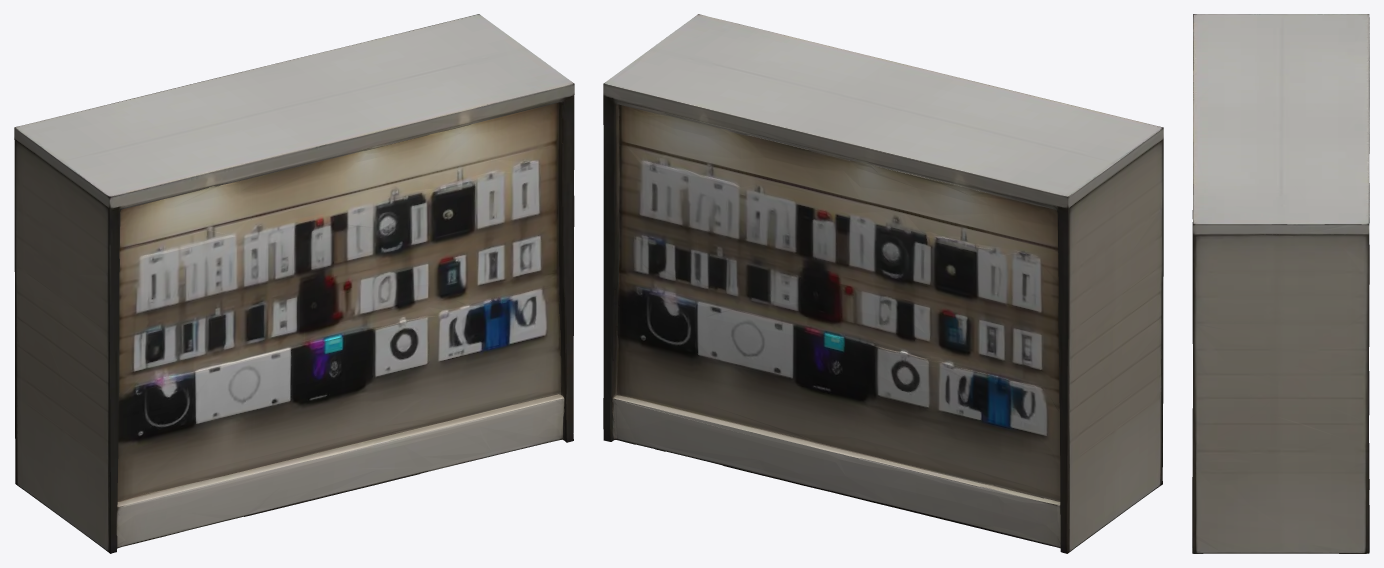
Rendered from bookshelf_corner_wood.glb.
3 renders of one model, left to right at view 1: azimuth 30°, elevation 25°; view 2: azimuth 150°, elevation 25°; view 3: azimuth 270°, elevation 25°, orthographic. The views are drawn at different scales.
Parts seen in each view (by area): view 1: geometry_0; view 2: geometry_0; view 3: geometry_0.
Boxes of the visible parts, x1,y1,x2,y2 form: geometry_0: [14, 14, 574, 553]; geometry_0: [603, 14, 1163, 553]; geometry_0: [1192, 14, 1369, 553].
Size of the model in its own units: 0.9974 by 0.732 by 0.356.
Materials: 1 (1 with a texture image).
